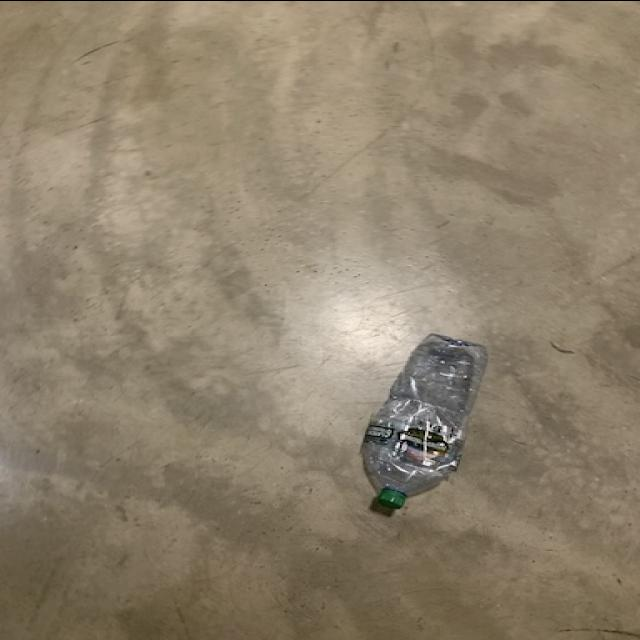PET: (358, 331, 488, 511)
